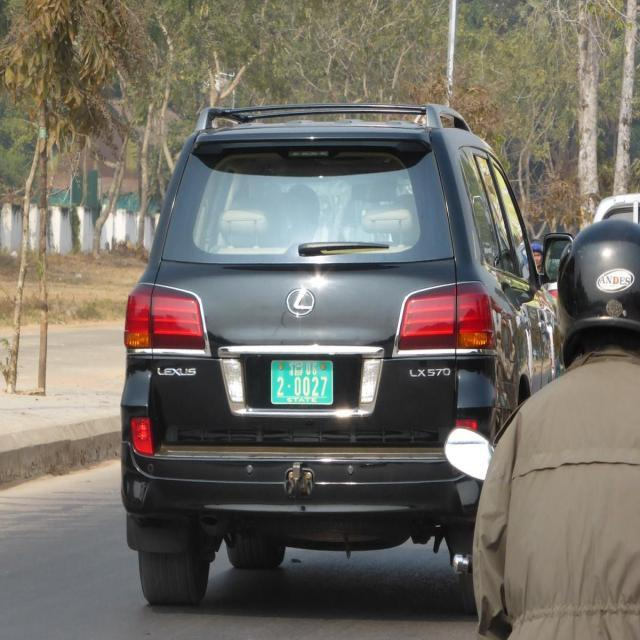State: (289, 361, 304, 376)
